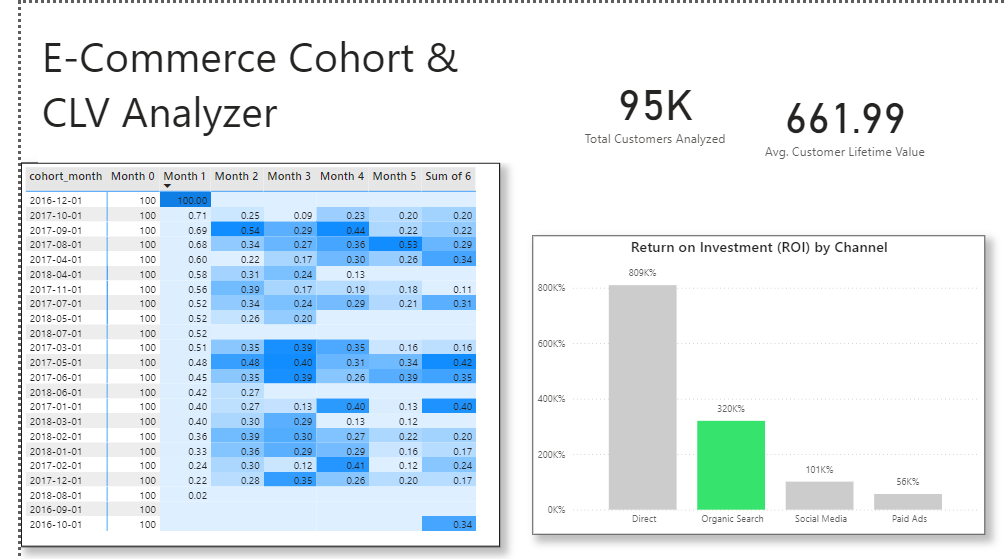

The dashboard page shown, as its layout file describes it:
{"tool":"powerbi","page":{"name":"Page 1","canvas":[1280,720],"ordinal":0},"visuals":[{"type":"pivotTable","fields":{"Rows":["cohort_retention_percentages.cohort_month"],"Values":["Sum(cohort_retention_percentages.0)","Sum(cohort_retention_percentages.1)","Sum(cohort_retention_percentages.2)","Sum(cohort_retention_percentages.3)","Sum(cohort_retention_percentages.4)","Sum(cohort_retention_percentages.5)","Sum(cohort_retention_percentages.6)"]},"box":[0,206,618,496],"z":0},{"type":"lineClusteredColumnComboChart","title":"Return on Investment (ROI) by Channel","fields":{"Category":["channel_roi_summary.acquisition_channel"],"Y":["Sum(channel_roi_summary.average_roi)"]},"box":[660,300,584,386],"z":1},{"type":"card","fields":{"Values":["Sum(channel_roi_summary.total_customers)"]},"box":[718,46,200,180],"z":2},{"type":"card","fields":{"Values":["Sum(channel_roi_summary.average_clv)"]},"box":[952,62,222,180],"z":3},{"type":"textbox","box":[22,26,618,180],"z":4}]}

Visuals, with their boxes in screenshot pixels (x1, y1, x2, y2), scaled from the page's 1280x720 canvas onto the 1004x559 screenshot:
pivotTable - cohort_retention_percentages.cohort_month x Sum(cohort_retention_percentages.0): select_region(0, 160, 485, 545)
"Return on Investment (ROI) by Channel" lineClusteredColumnComboChart: select_region(518, 233, 976, 533)
card - Sum(channel_roi_summary.total_customers): select_region(563, 36, 720, 175)
card - Sum(channel_roi_summary.average_clv): select_region(747, 48, 921, 188)
textbox: select_region(17, 20, 502, 160)
